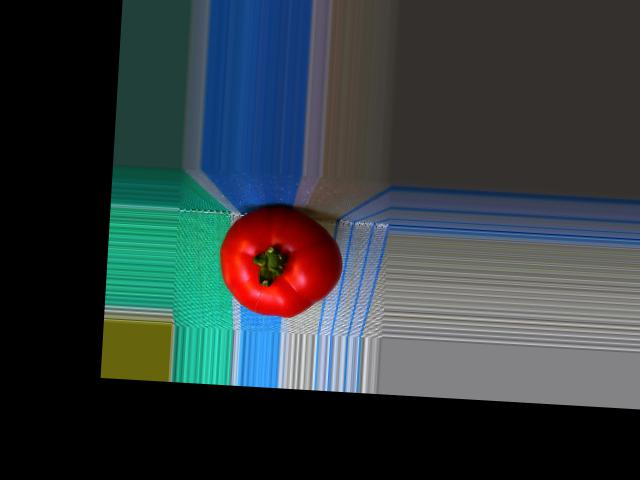tomato: (216, 202, 344, 320)
